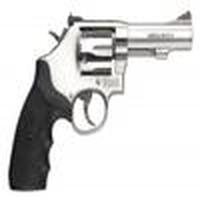gun: (9, 16, 190, 191)
